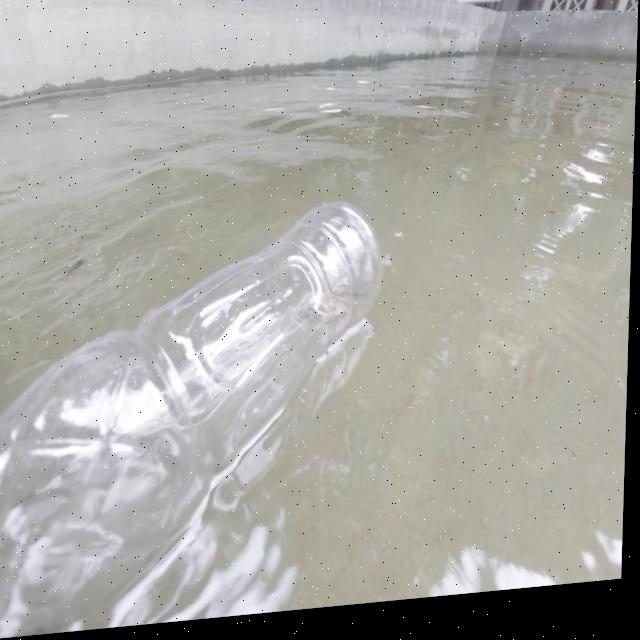waterbottle: (0, 183, 403, 640)
